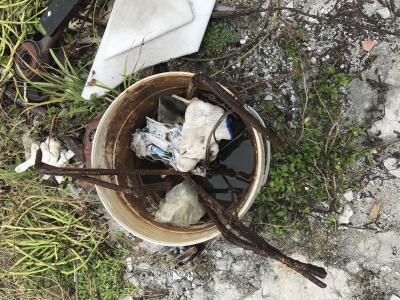bucket: (88, 68, 273, 251)
